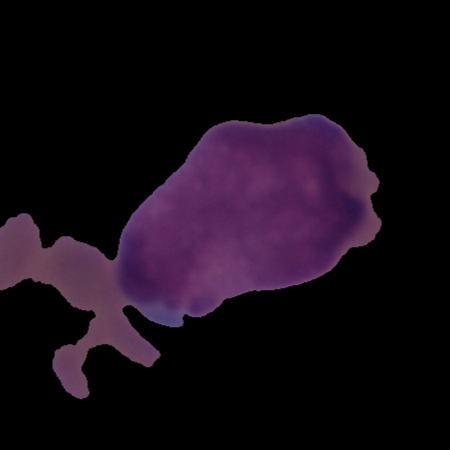HEM: (1, 109, 385, 403)
